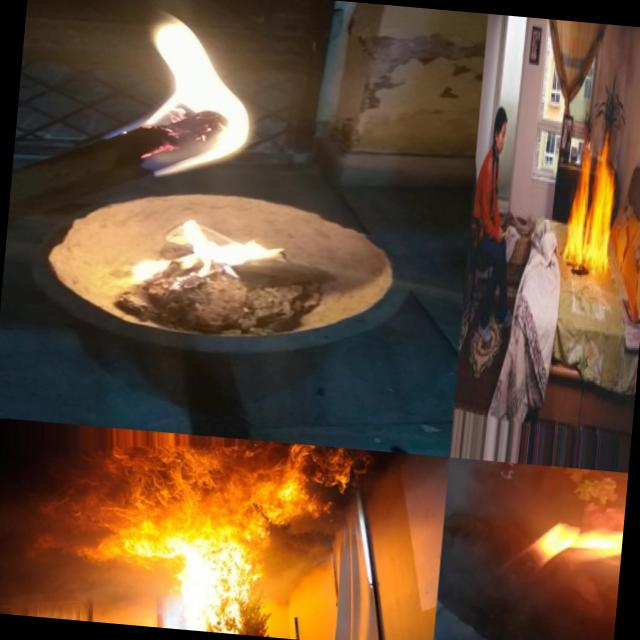fire: (110, 0, 273, 201), (23, 440, 270, 572), (463, 483, 615, 640), (118, 210, 293, 302), (562, 126, 622, 280), (266, 447, 362, 531), (170, 566, 260, 636)
smoke: (0, 549, 175, 622), (556, 20, 640, 131), (258, 523, 338, 609)
